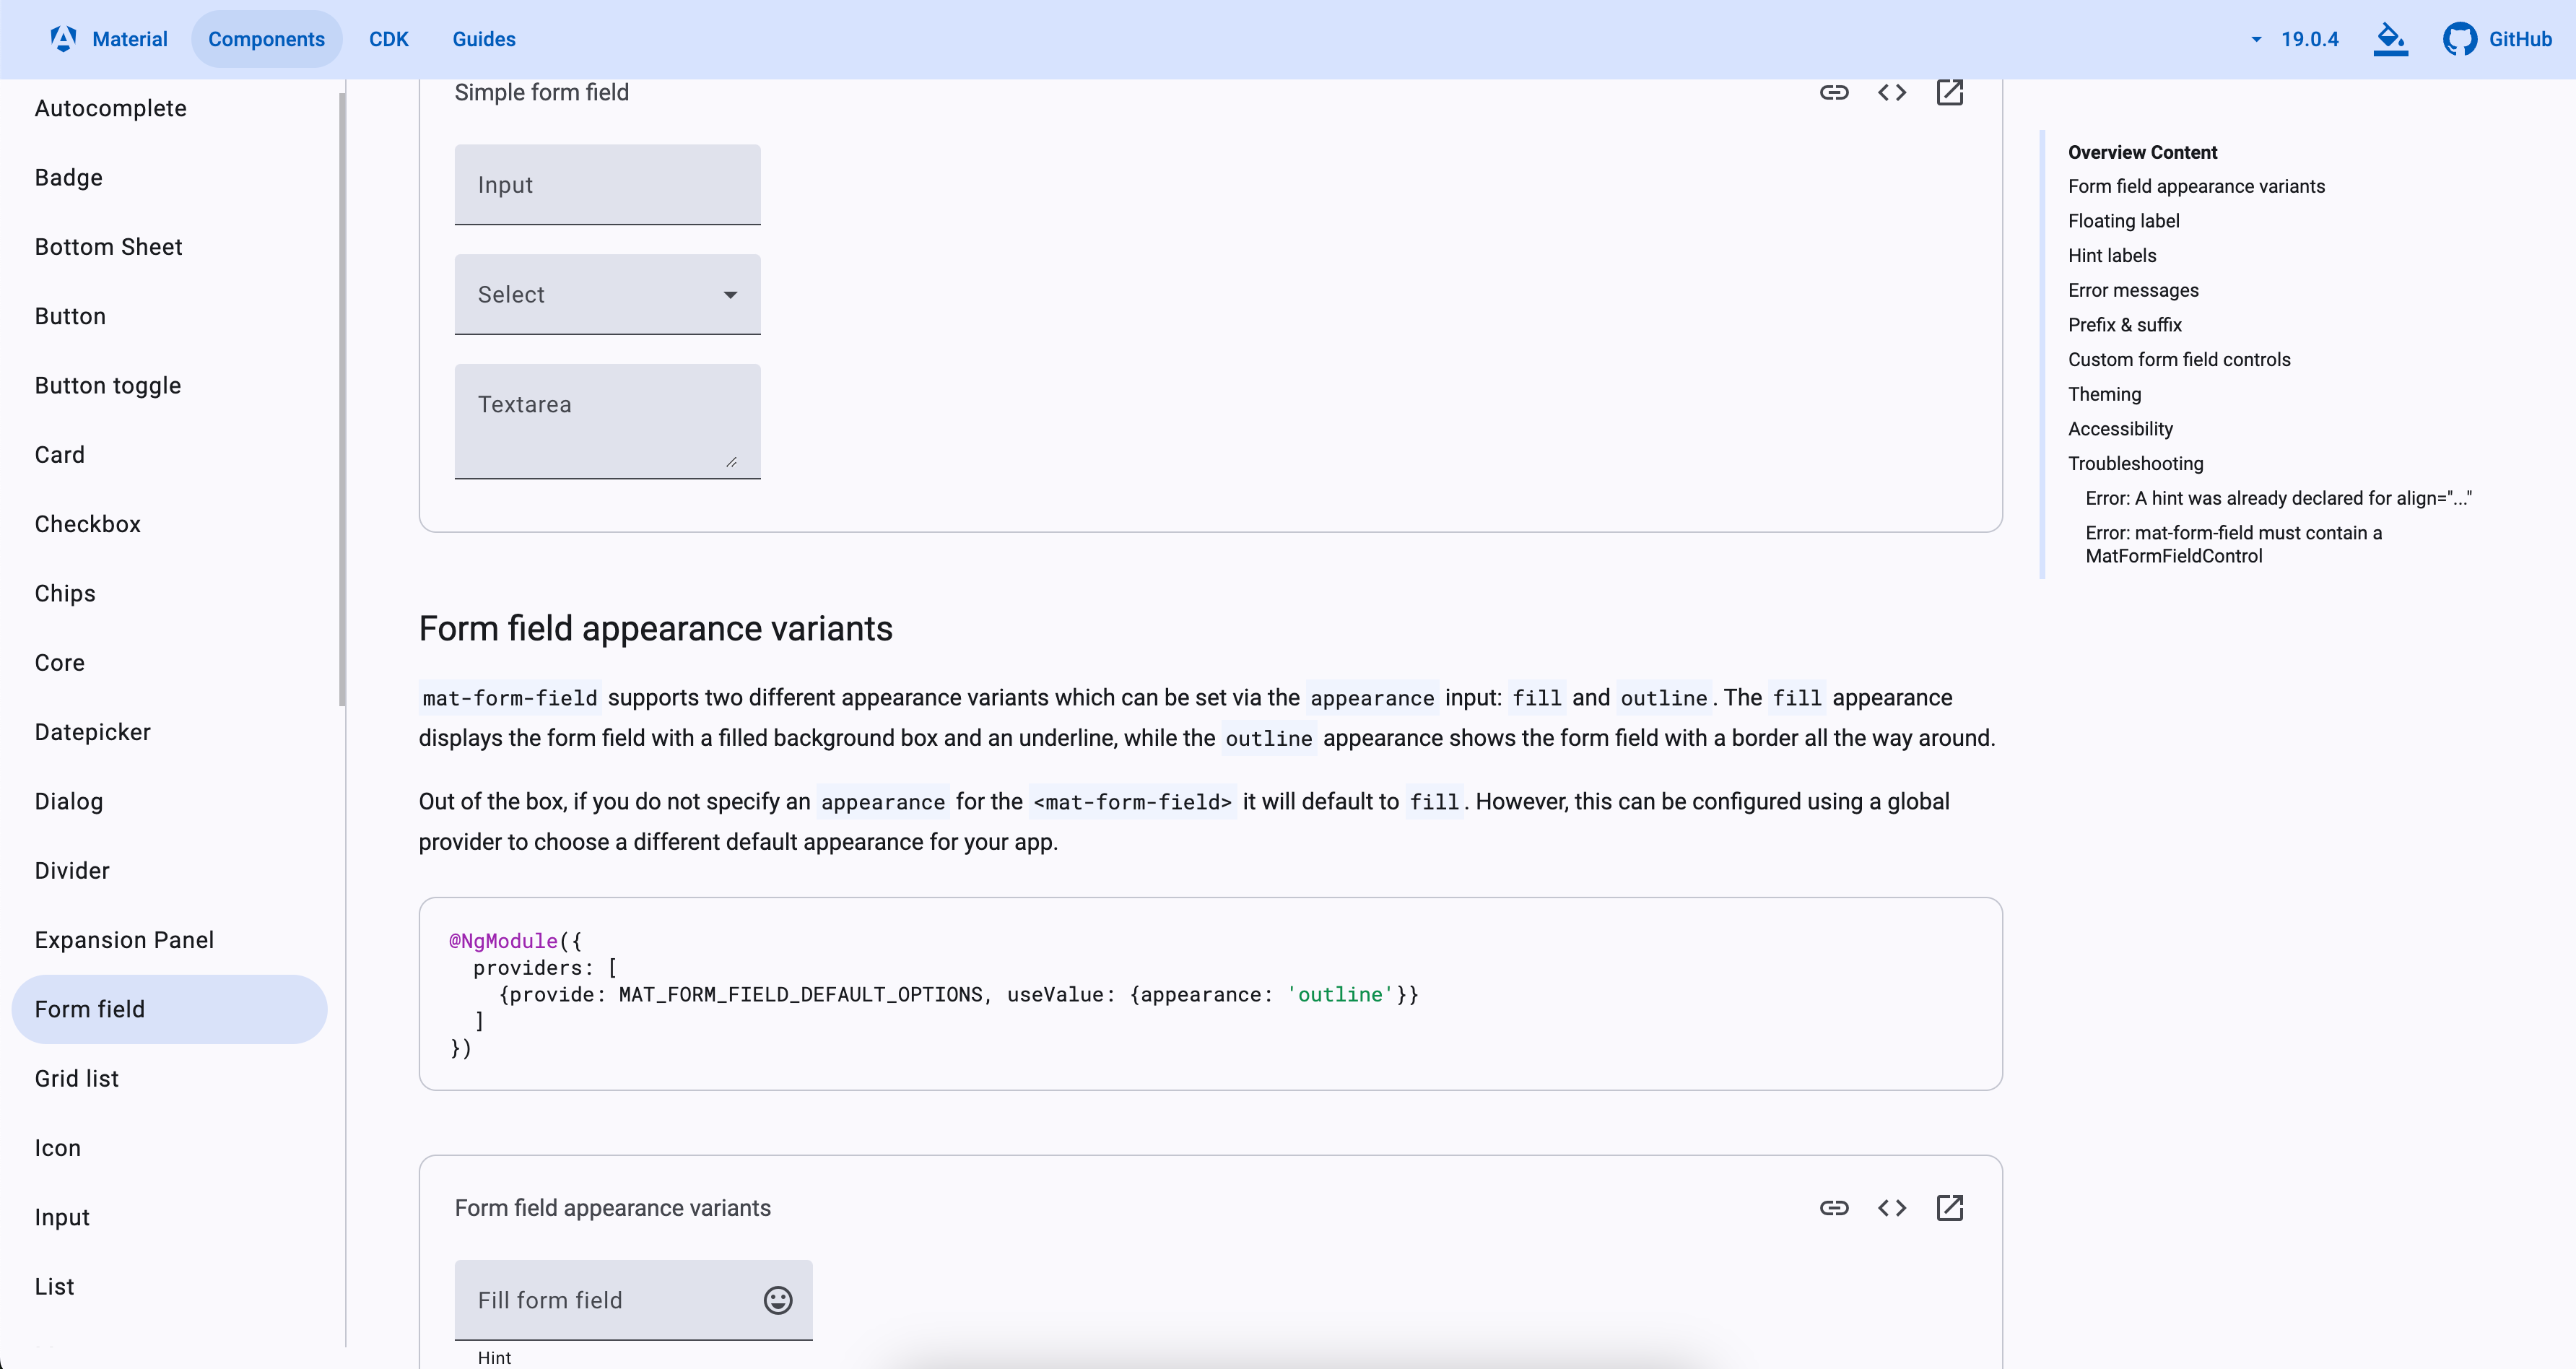input: (453, 363, 763, 482), (451, 1258, 816, 1343), (453, 142, 763, 227)
label: (479, 1291, 625, 1313), (475, 392, 574, 418), (479, 172, 535, 199)
